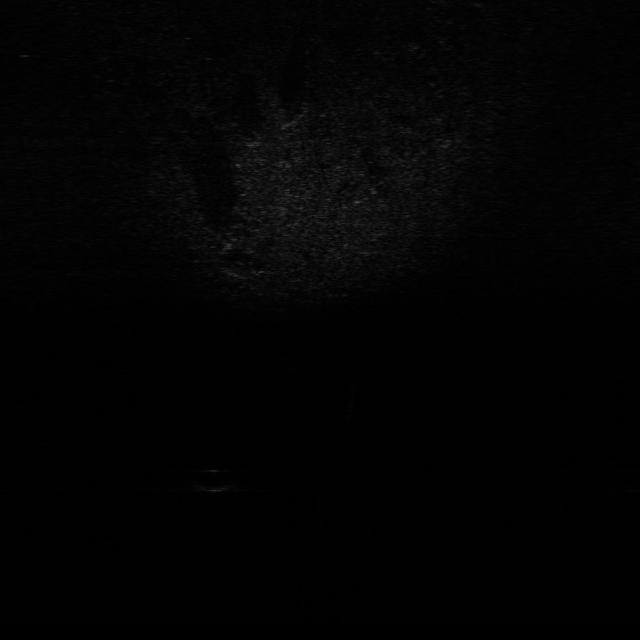ball: (191, 464, 237, 494)
